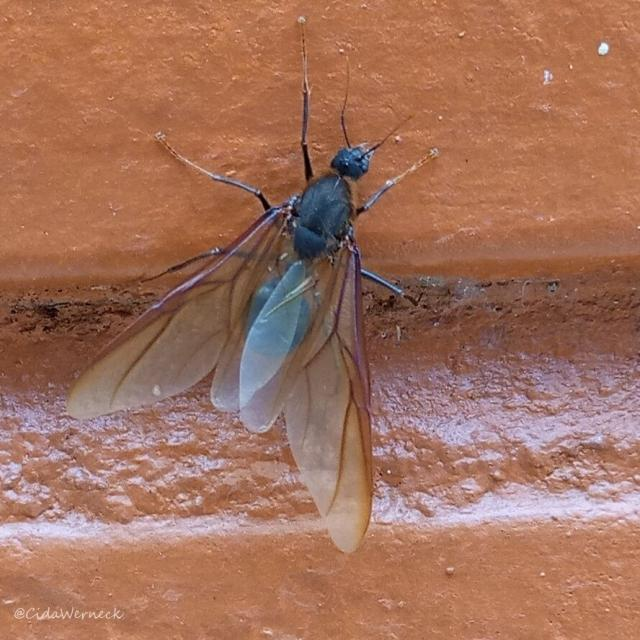Alive-Male-Alate: (66, 16, 439, 554)
